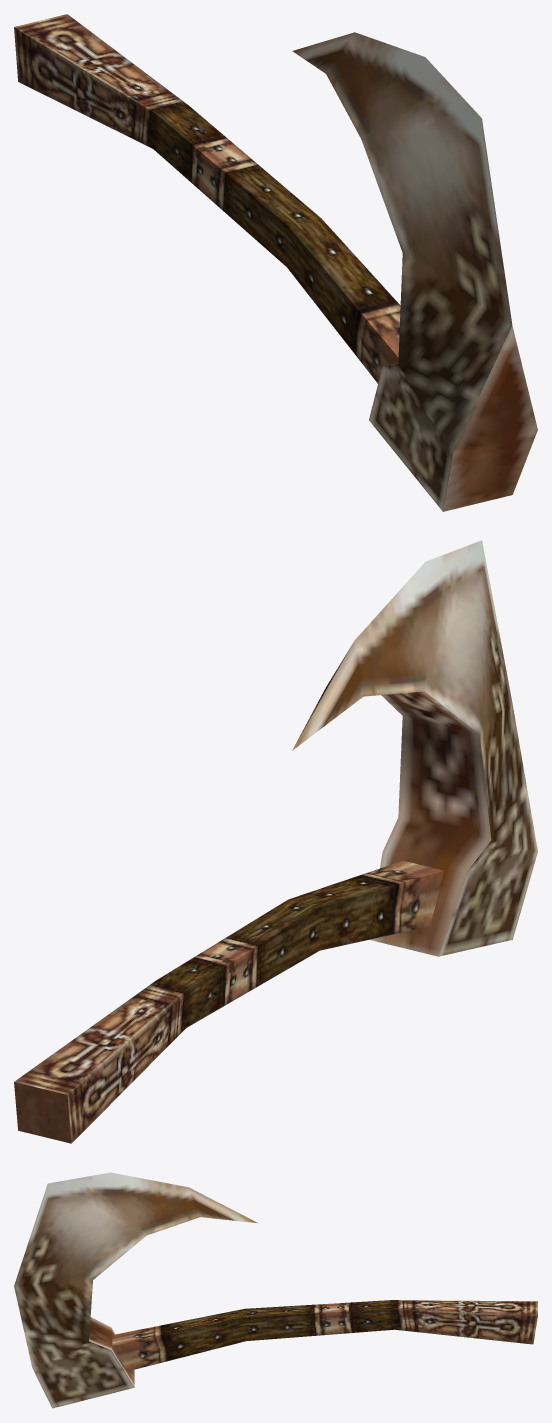
File: waa.glb
3 renders of one model, top to bottom at view 1: azimuth 30°, elevation 25°; view 2: azimuth 150°, elevation 25°; view 3: azimuth 270°, elevation 25°, orthographic. The views are drawn at different scales.
Parts seen in each view (by area): view 1: waa-col; view 2: waa-col; view 3: waa-col.
Part boxes in pixels (x1,y1,x2,y2): waa-col: (14, 14, 537, 511); waa-col: (14, 540, 537, 1143); waa-col: (14, 1172, 537, 1408).
Size of the model in its own units: 0.0735 by 0.3081 by 0.6457.
1 material, 1 textured.
